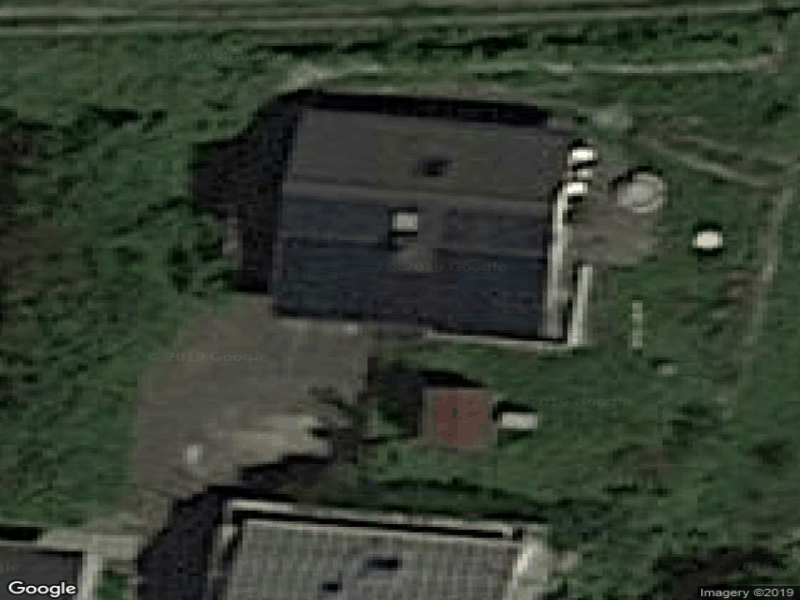pv: (274, 234, 545, 339)
